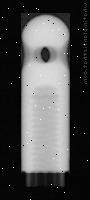Zimmer: (21, 13, 70, 173)
